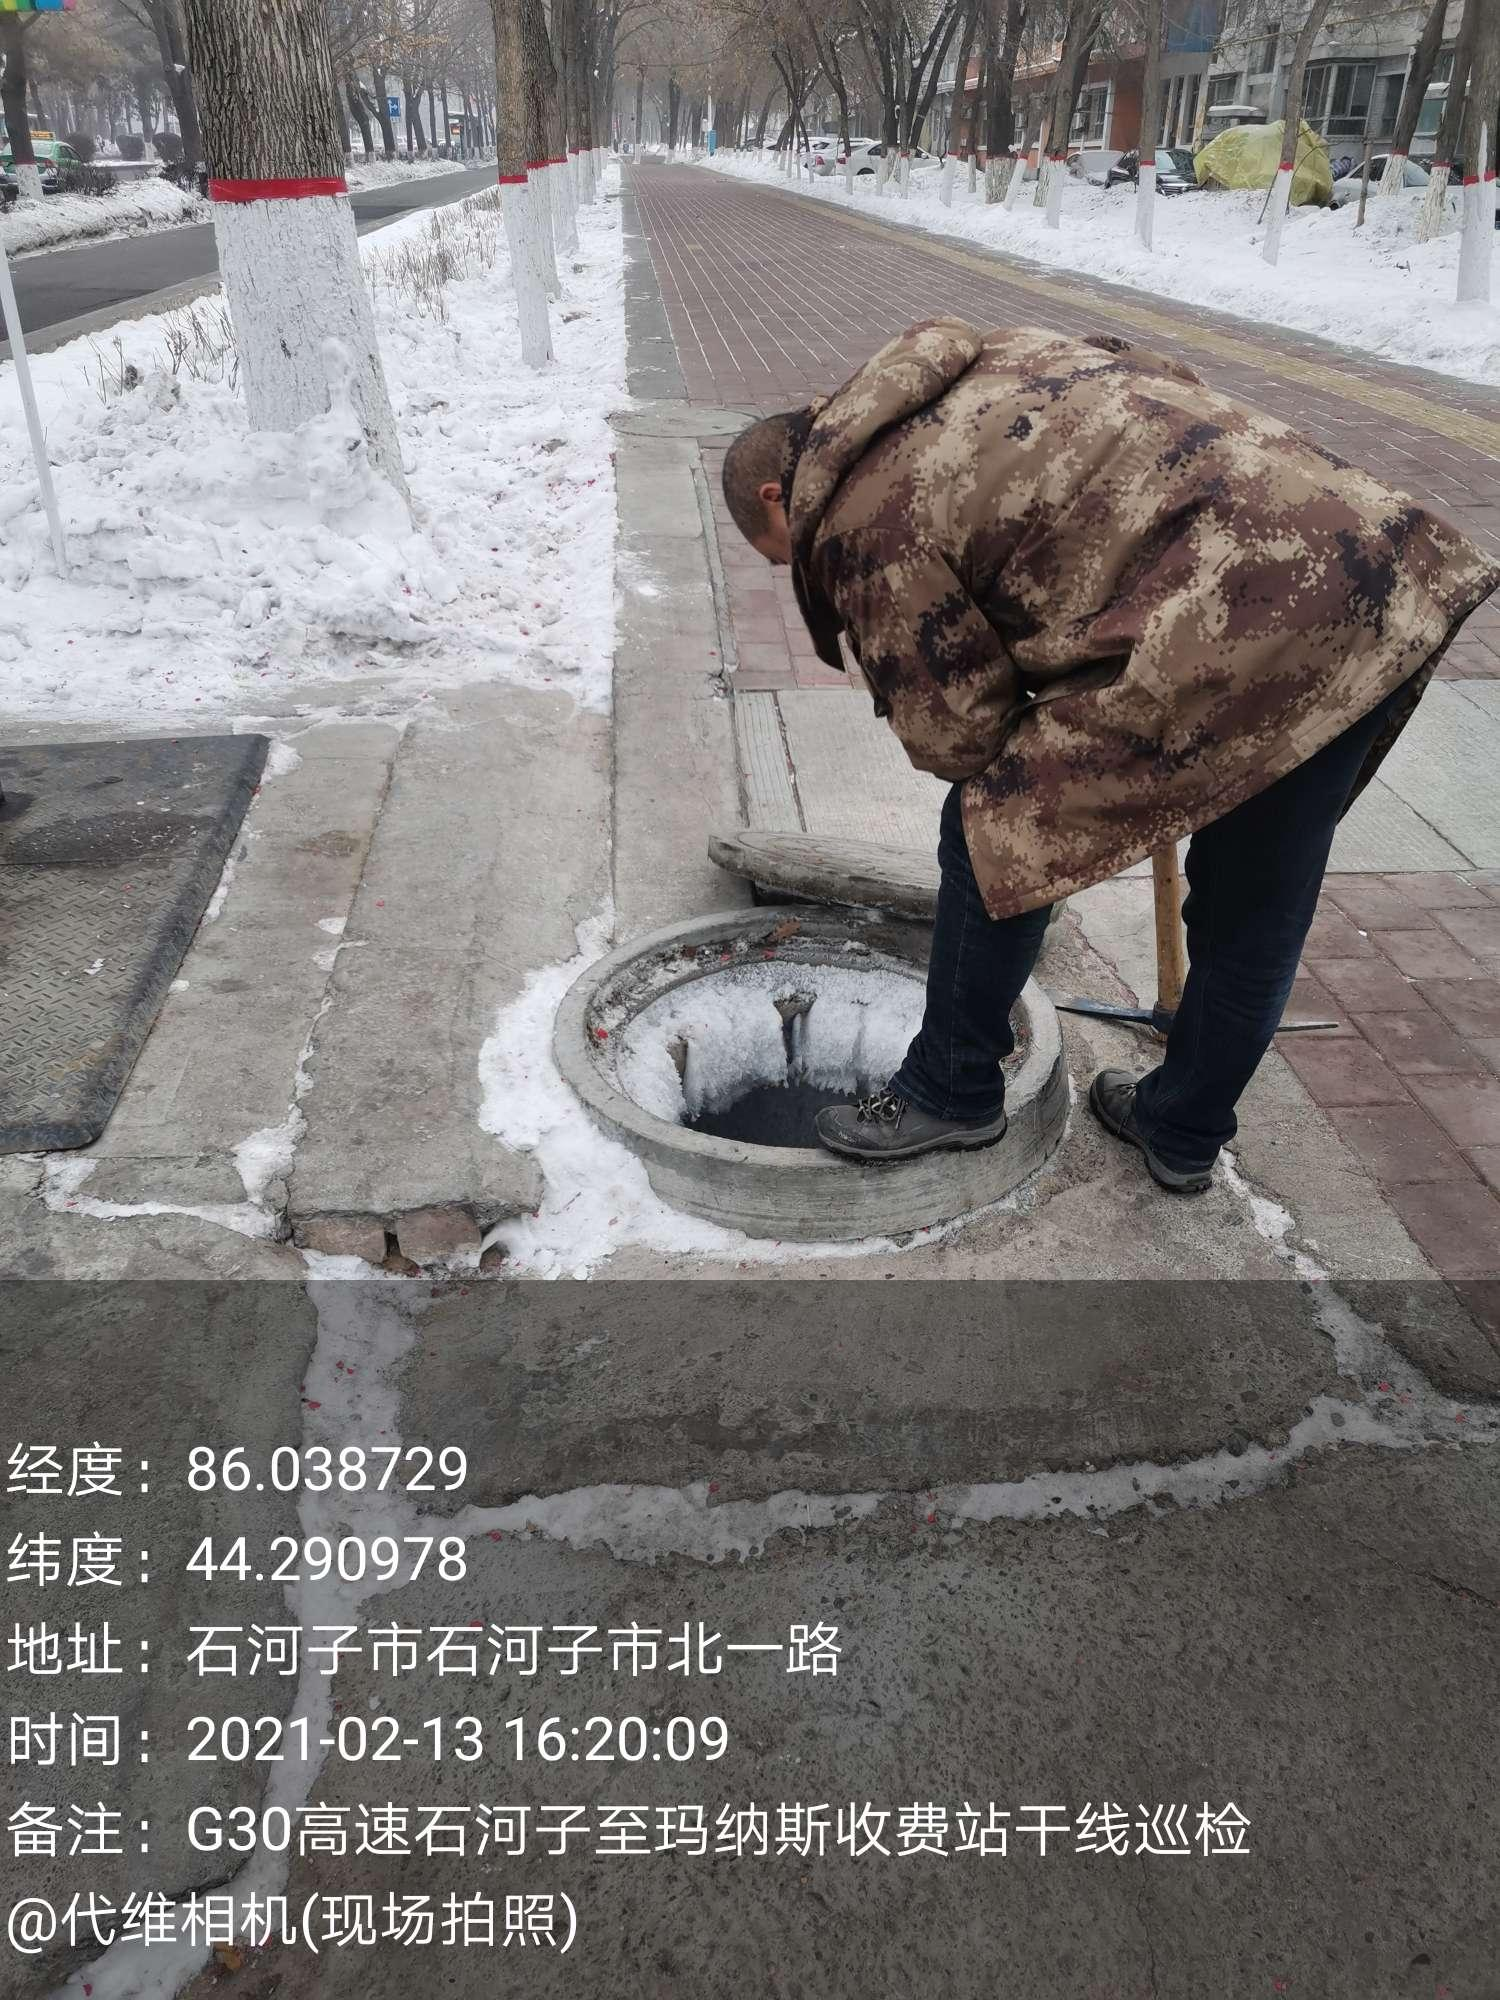wellcover: (459, 787, 1127, 1208)
